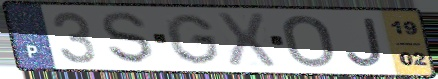3: (51, 10, 97, 65)
G: (163, 12, 223, 66)
J: (344, 16, 387, 69)
O: (279, 13, 337, 69)
S: (99, 10, 156, 66)
X: (213, 10, 279, 69)
